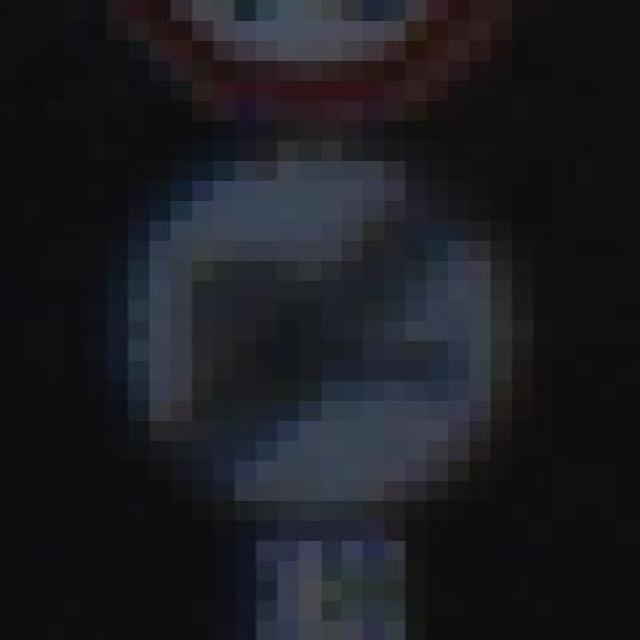Overtaking by trucks is prohibited: (21, 120, 576, 520)
